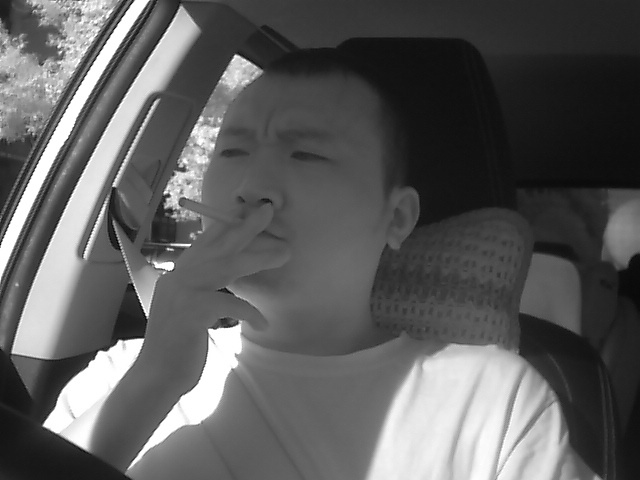hand: (152, 209, 277, 379)
